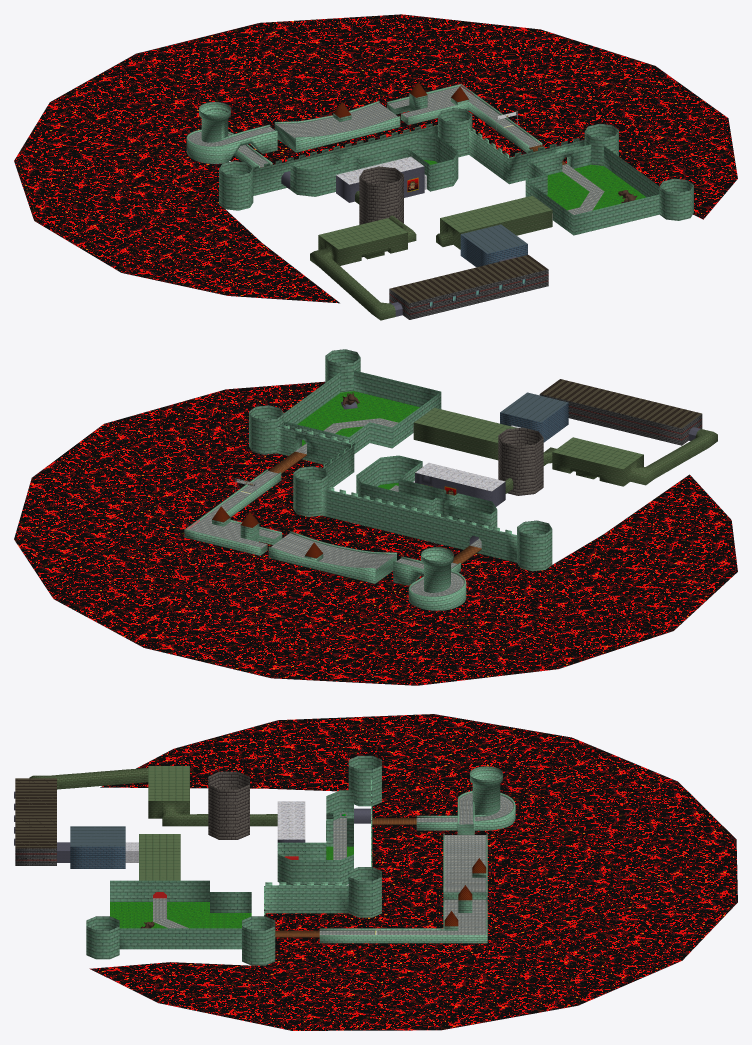
The model's file is nintendo_64_-_mario_kart_64_-_courses_-_bowsers.glb.
3 views of the same model, one above another, from view 1: azimuth 30°, elevation 25°; view 2: azimuth 150°, elevation 25°; view 3: azimuth 270°, elevation 25° (orthographic). The views are drawn at different scales.
Parts seen in each view (by area): view 1: Object_52, Object_2, Object_3, Object_13, Object_26, Object_16, Object_23, Object_18, Object_19, Object_49, Object_17, Object_22 (+1 smaller); view 2: Object_52, Object_2, Object_13, Object_3, Object_26, Object_16, Object_19, Object_18, Object_23, Object_49, Object_17, Object_20 (+2 smaller); view 3: Object_52, Object_2, Object_3, Object_26, Object_13, Object_16, Object_18, Object_19, Object_20, Object_22, Object_17, Object_23 (+2 smaller).
Part boxes in pixels (x1,y1,x2,y2): Object_52: (14,14,737,303); Object_2: (186,84,693,235); Object_3: (188,86,604,214); Object_13: (310,191,552,320); Object_26: (319,195,552,249); Object_16: (390,255,547,303); Object_23: (389,269,548,319); Object_18: (424,160,646,210); Object_19: (359,166,403,224); Object_49: (281,166,525,316); Object_17: (461,224,527,253); Object_22: (460,234,527,267); Object_52: (14,381,737,685); Object_2: (184,349,552,610); Object_13: (413,423,717,493); Object_3: (188,418,481,596); Object_26: (414,407,643,469); Object_16: (540,379,701,428); Object_19: (498,427,543,495); Object_18: (297,391,479,538); Object_23: (539,394,702,445); Object_49: (341,401,700,544); Object_17: (500,392,568,422); Object_20: (413,425,520,491); Object_52: (89,714,737,1030); Object_2: (86,755,515,965); Object_3: (153,793,513,934); Object_26: (139,766,189,880); Object_13: (29,768,277,826); Object_16: (15,778,56,848); Object_18: (110,846,353,928); Object_19: (208,771,249,839); Object_20: (125,801,305,862); Object_22: (70,846,125,868); Object_17: (70,826,125,846); Object_23: (15,848,56,865).
Bounding box in the file's own units: 5.4 × 0.471 × 5.21.
51 materials, 51 textured.
